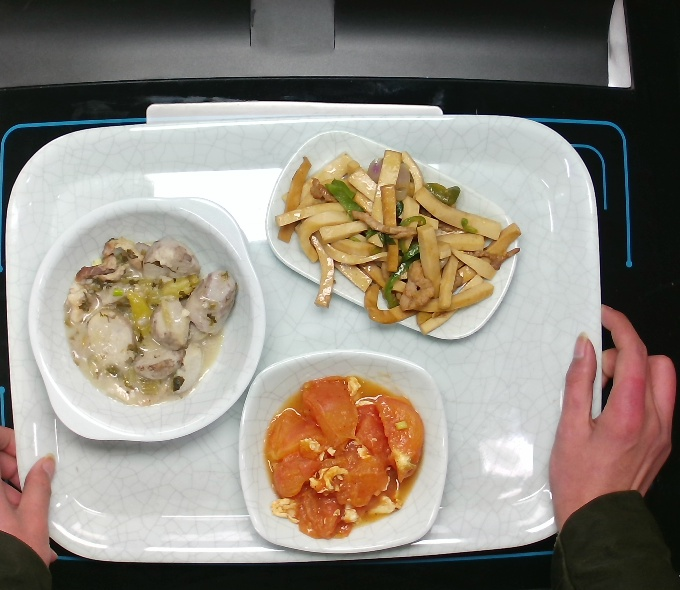wcq-FanQieChaoDan: (260, 372, 435, 548)
wcq-QianYeDouFu: (265, 140, 527, 342)
wcq-YangYu: (55, 230, 246, 415)
